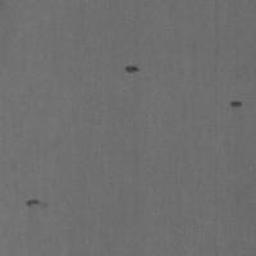Inclusion: (124, 65, 138, 74), (229, 100, 243, 109), (26, 198, 40, 206)
